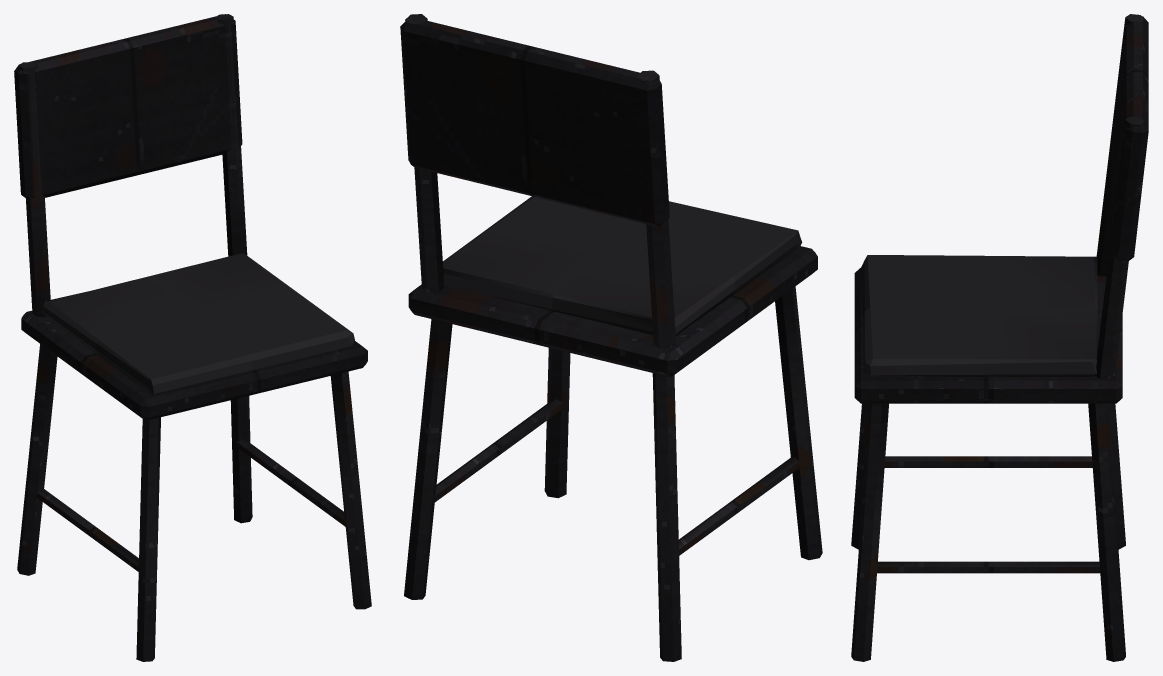
The model's file is chair_steel.glb.
The picture shows the model from 3 angles, left to right: view 1: azimuth 30°, elevation 25°; view 2: azimuth 150°, elevation 25°; view 3: azimuth 270°, elevation 25°; orthographic projection. The views are drawn at different scales.
Visible parts, largest first — view 1: body; view 2: body; view 3: body.
Boxes of the visible parts, x1,y1,x2,y2 form: body: [14, 14, 371, 661]; body: [400, 14, 822, 661]; body: [851, 14, 1148, 661].
Size of what is drawn, in the model's own units: 0.4509 by 0.9232 by 0.4663.
Materials: 3 (2 with a texture image).
